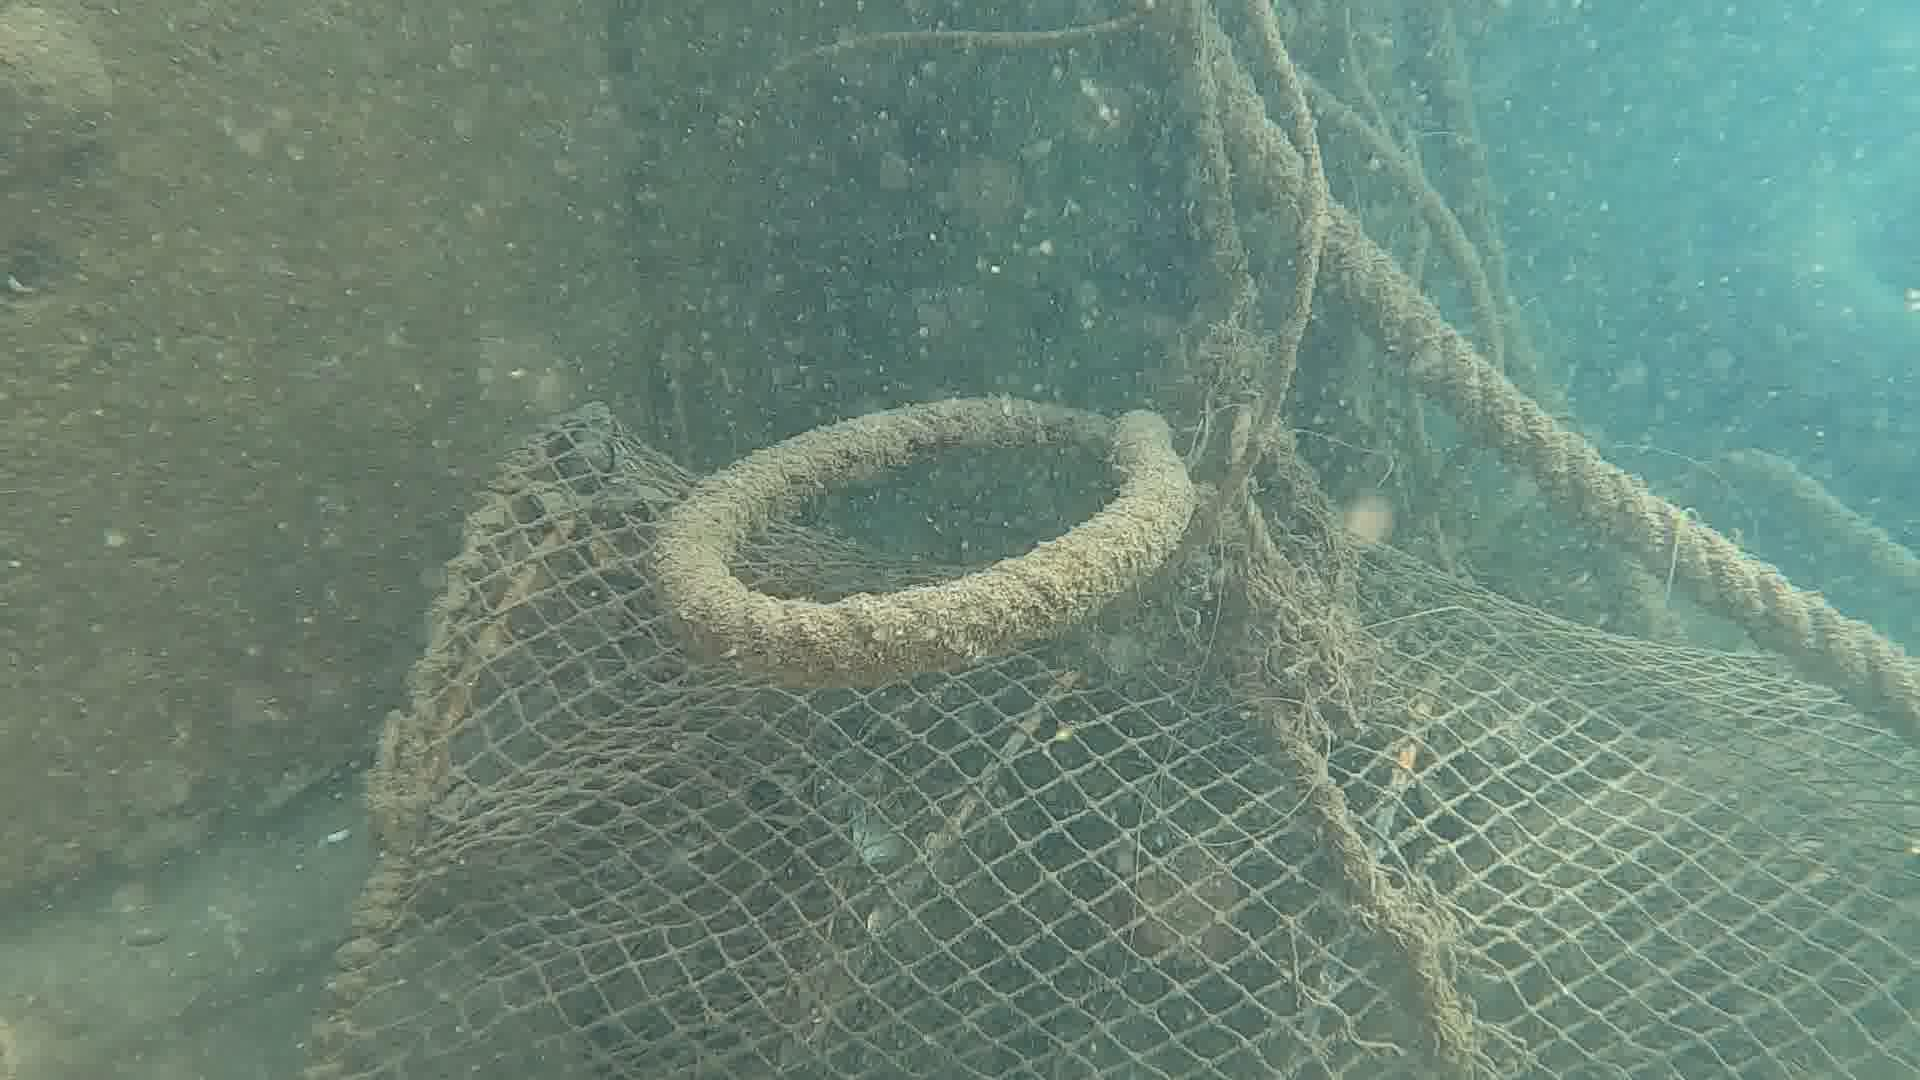rope: (654, 390, 1200, 679)
spring fish trap: (295, 401, 1920, 1080)
